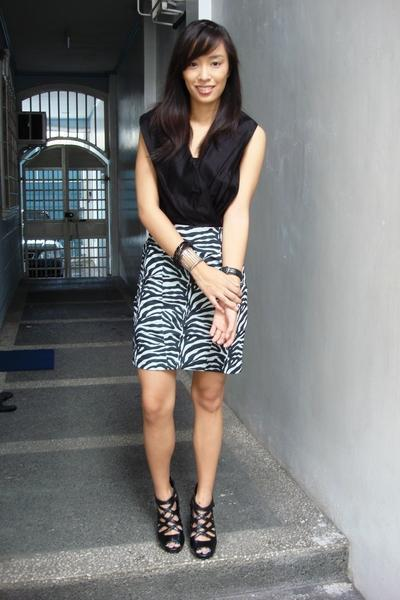shirt: (139, 110, 257, 228)
shoe: (142, 483, 216, 559)
skirt: (135, 225, 243, 387)
